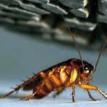cockroach: (18, 57, 97, 101)
